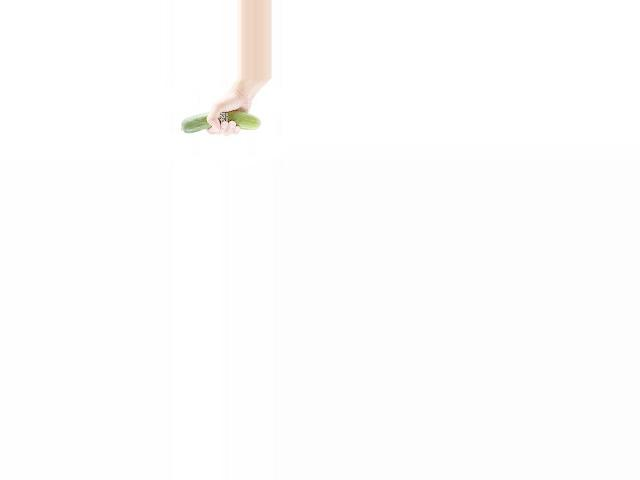cucumber: (181, 110, 260, 134)
